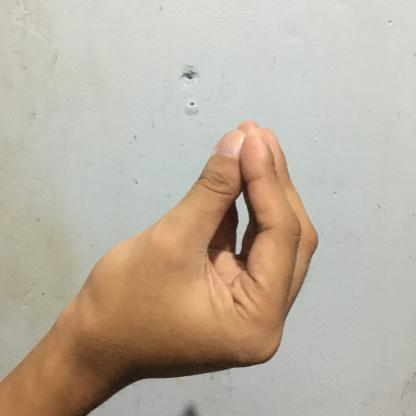food: (80, 114, 326, 394)
